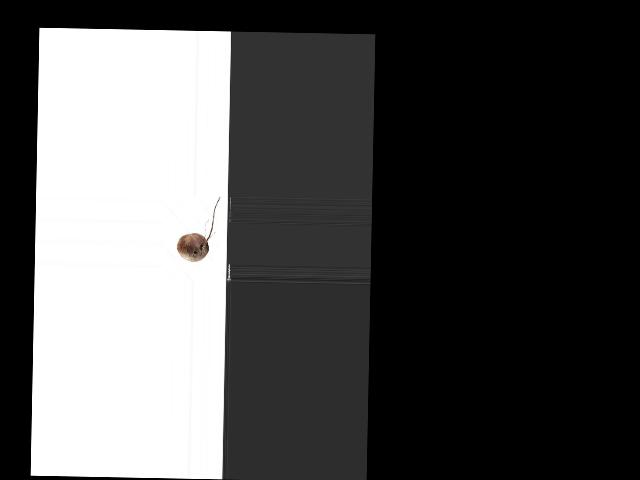beet: (177, 195, 220, 261)
